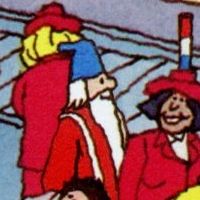wb: (63, 38, 117, 112)
